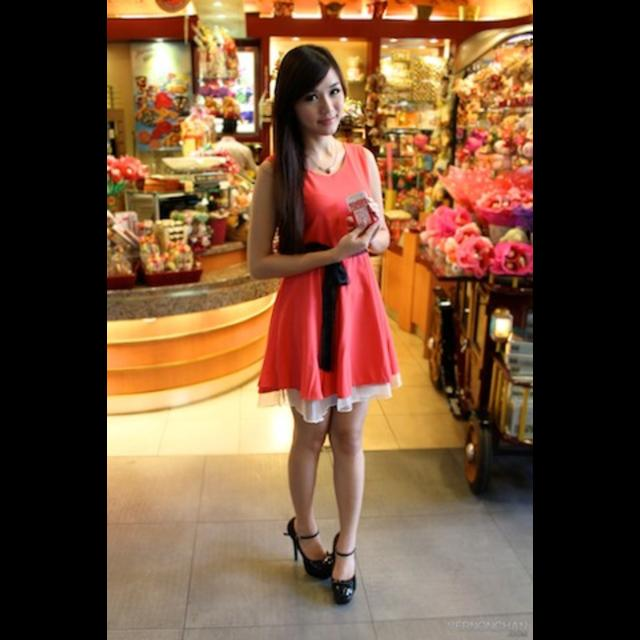Flower: (464, 235, 494, 255)
